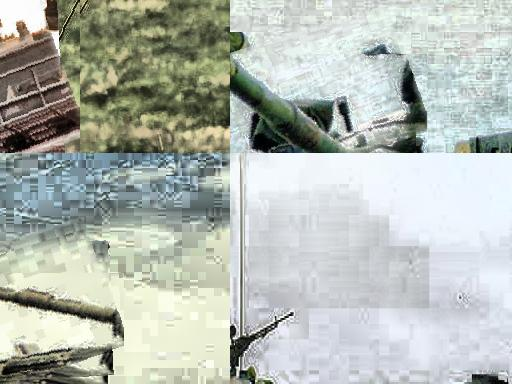tanks: (231, 60, 428, 154), (1, 28, 80, 154), (1, 290, 125, 348), (1, 348, 125, 383), (231, 319, 283, 384), (474, 375, 498, 383)
